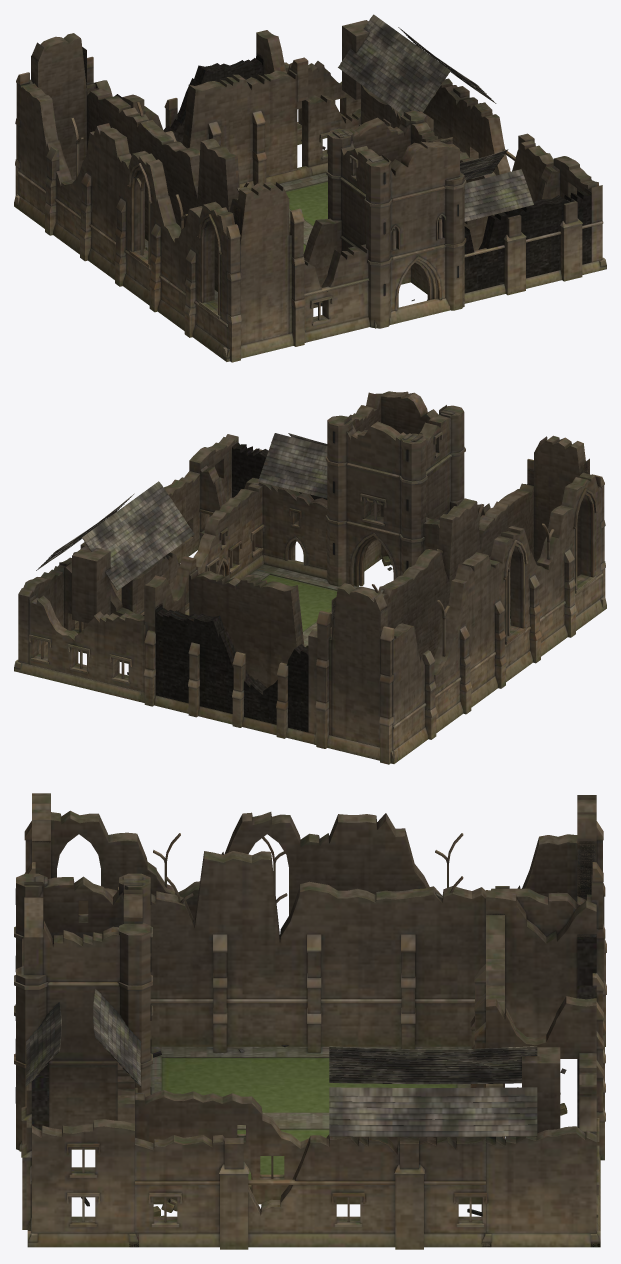
Rendered from university_ruin.glb.
3 renders of one model, top to bottom at view 1: azimuth 30°, elevation 25°; view 2: azimuth 150°, elevation 25°; view 3: azimuth 270°, elevation 25°, orthographic. The views are drawn at different scales.
Parts seen in each view (by area): view 1: university_ruin_LOD0; view 2: university_ruin_LOD0; view 3: university_ruin_LOD0.
Part boxes in pixels (<box>): university_ruin_LOD0: <box>14,14,606,362</box>; university_ruin_LOD0: <box>14,391,606,764</box>; university_ruin_LOD0: <box>14,793,606,1249</box>.
Size of what is drawn, in the model's own units: 31.7 by 13.33 by 31.09.
Materials: 1 (1 with a texture image).
